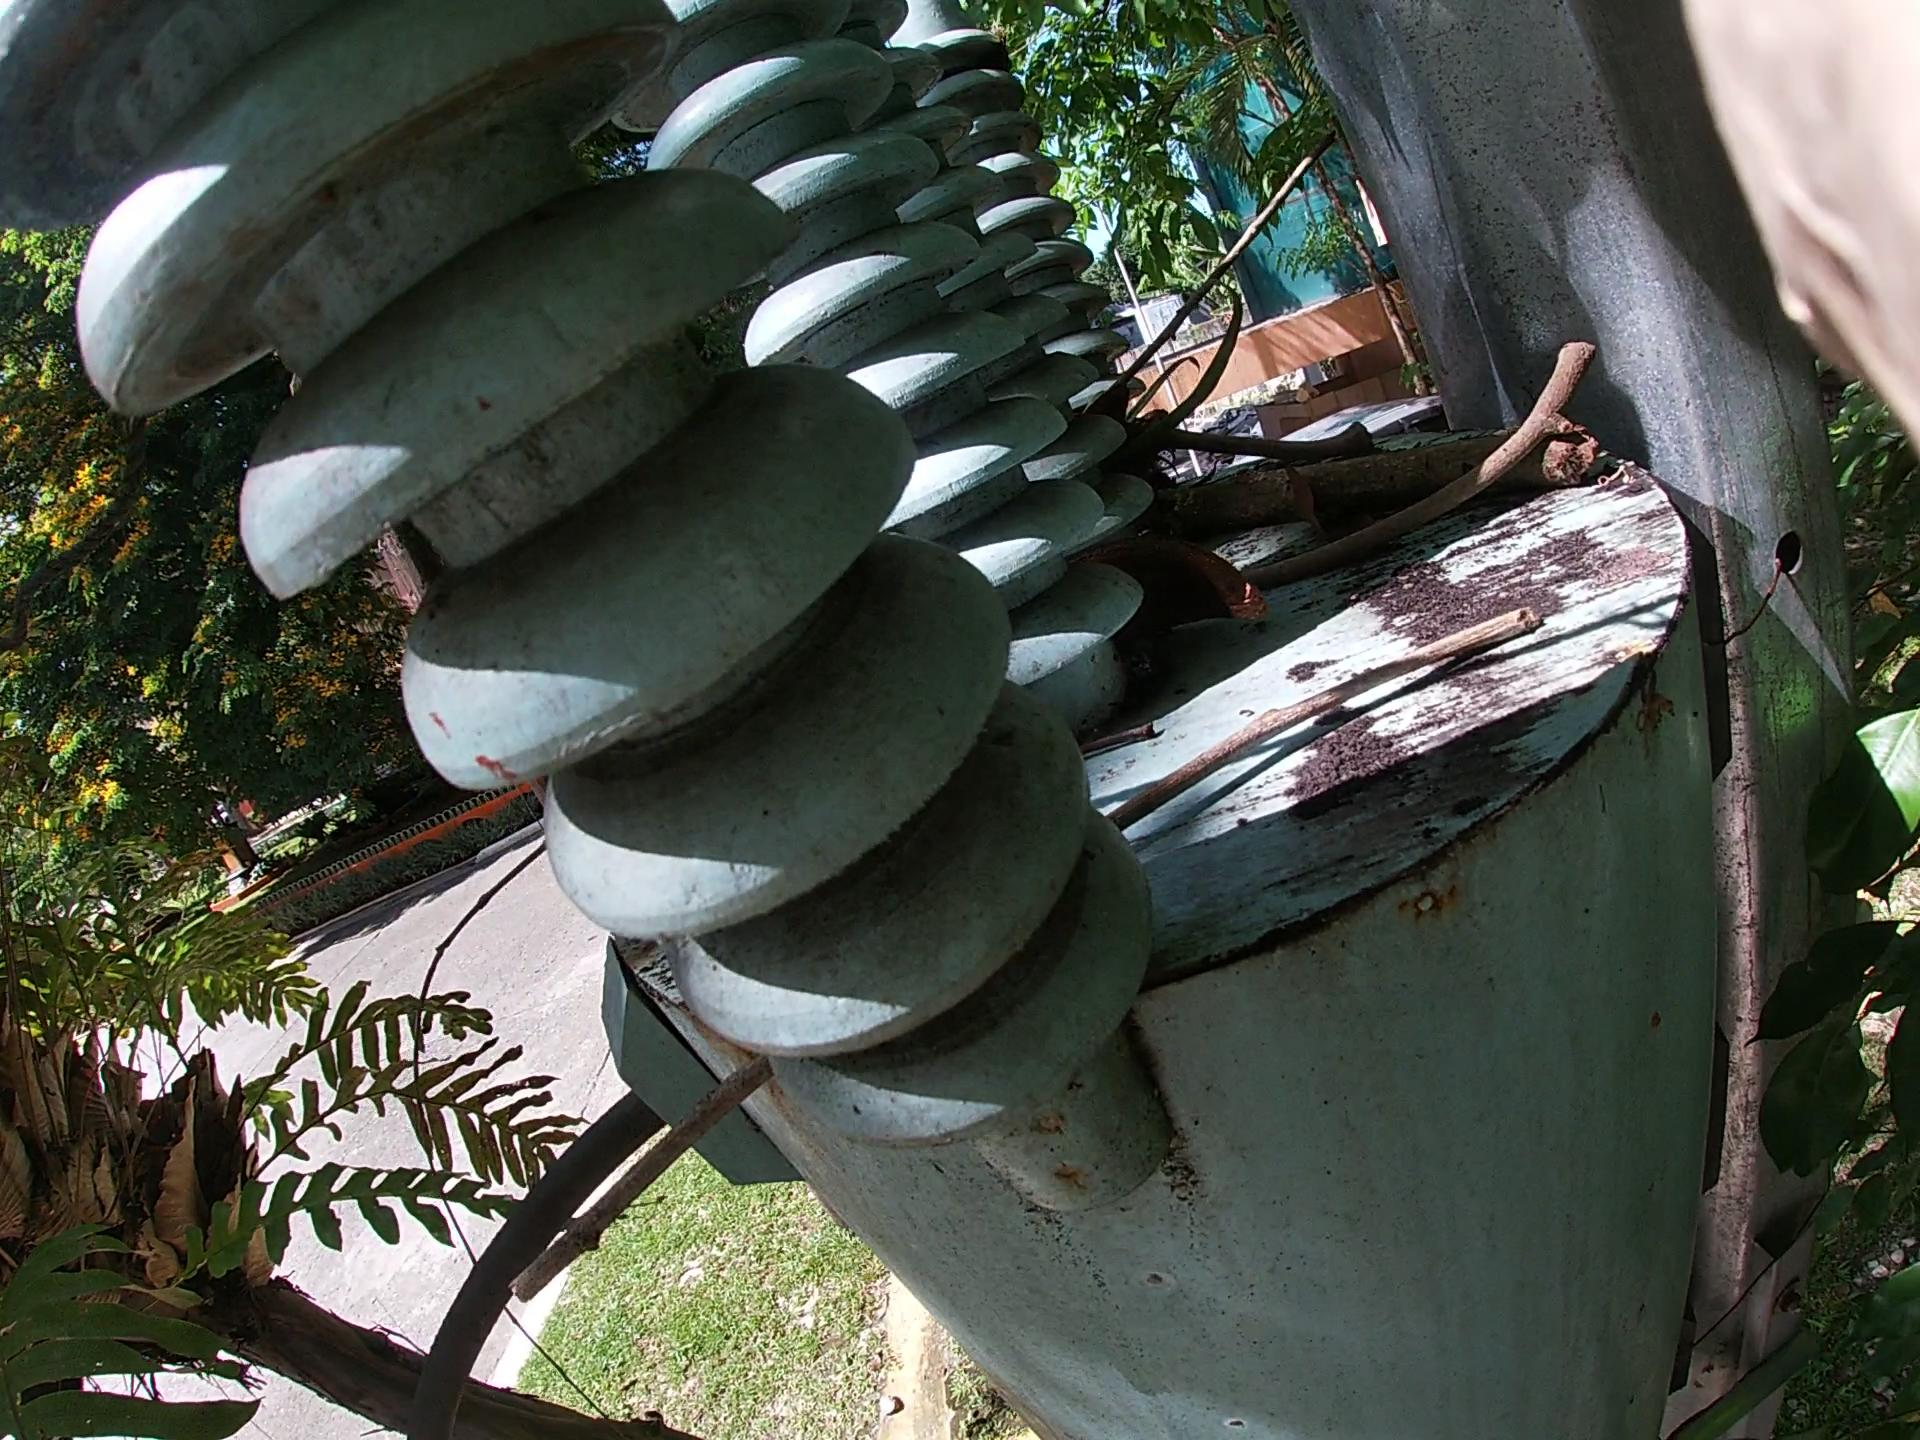branch with leaves: (1030, 354, 1548, 535)
mahogany fruit: (1113, 501, 1268, 649)
tree branch: (293, 142, 1290, 1131), (540, 551, 1538, 1342), (1231, 399, 1538, 640)
